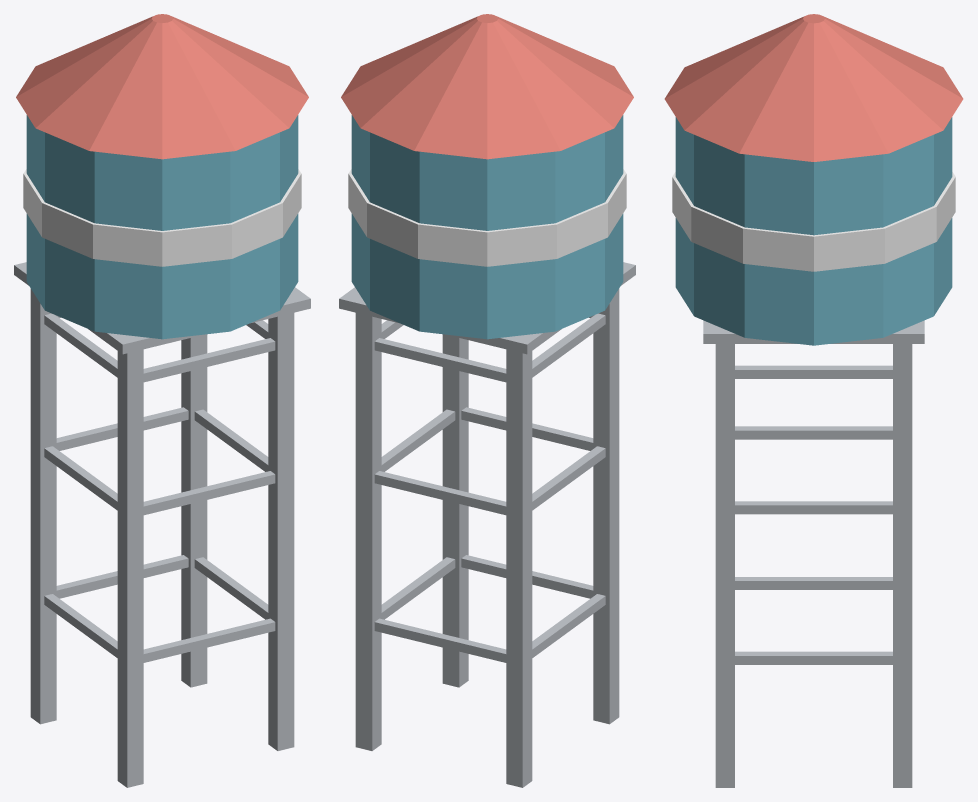
File: tower.glb
3 views of the same model, side by side, from view 1: azimuth 30°, elevation 25°; view 2: azimuth 150°, elevation 25°; view 3: azimuth 270°, elevation 25° (orthographic).
Visible parts, largest first — view 1: Tower; view 2: Tower; view 3: Tower.
Part boxes in pixels (bbox=[...]): Tower: bbox=[14, 14, 310, 787]; Tower: bbox=[339, 14, 635, 787]; Tower: bbox=[664, 14, 963, 787].
Bounding box in the file's own units: 5.4 × 14.5 × 5.4.
